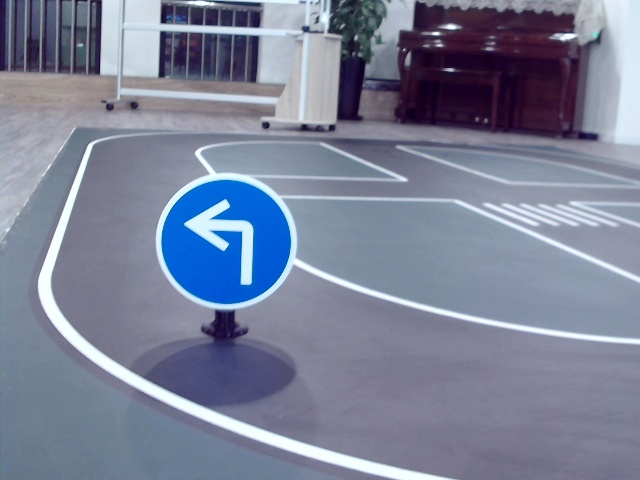turn_left: (181, 196, 261, 287)
